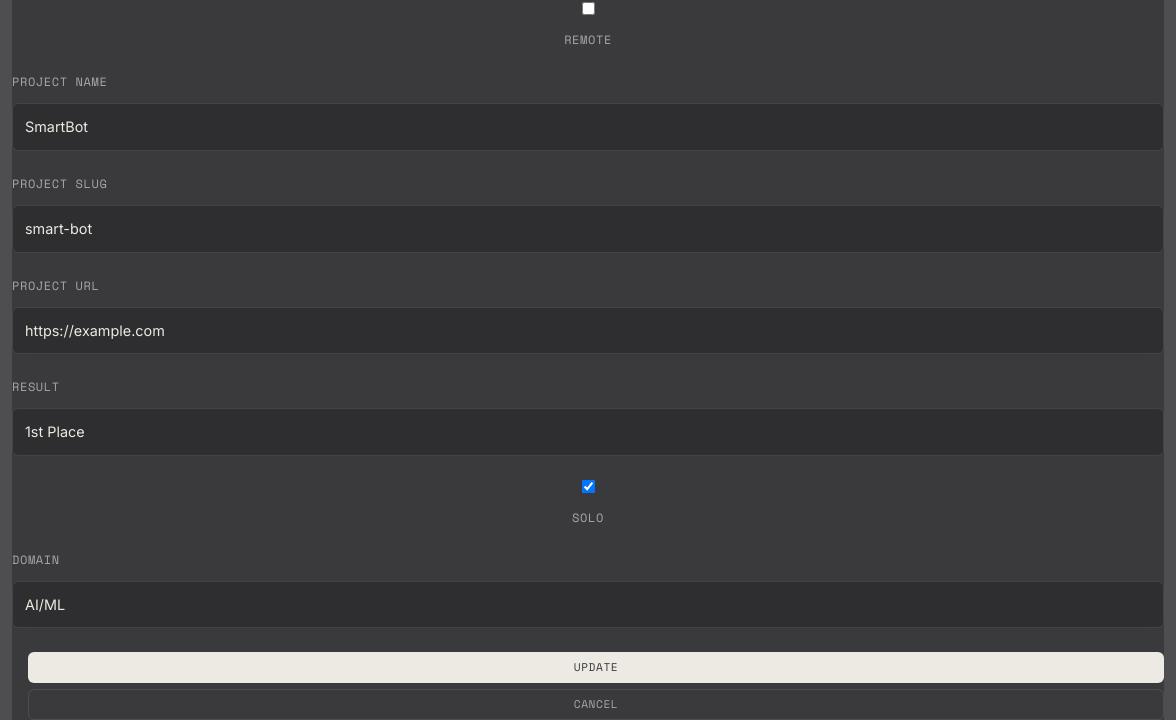
HackathonEditor › shows SAVING... while saving
(page scrolled)
Click the button "UPDATE": [596, 668] box x1=28 y1=652 x2=1164 y2=683
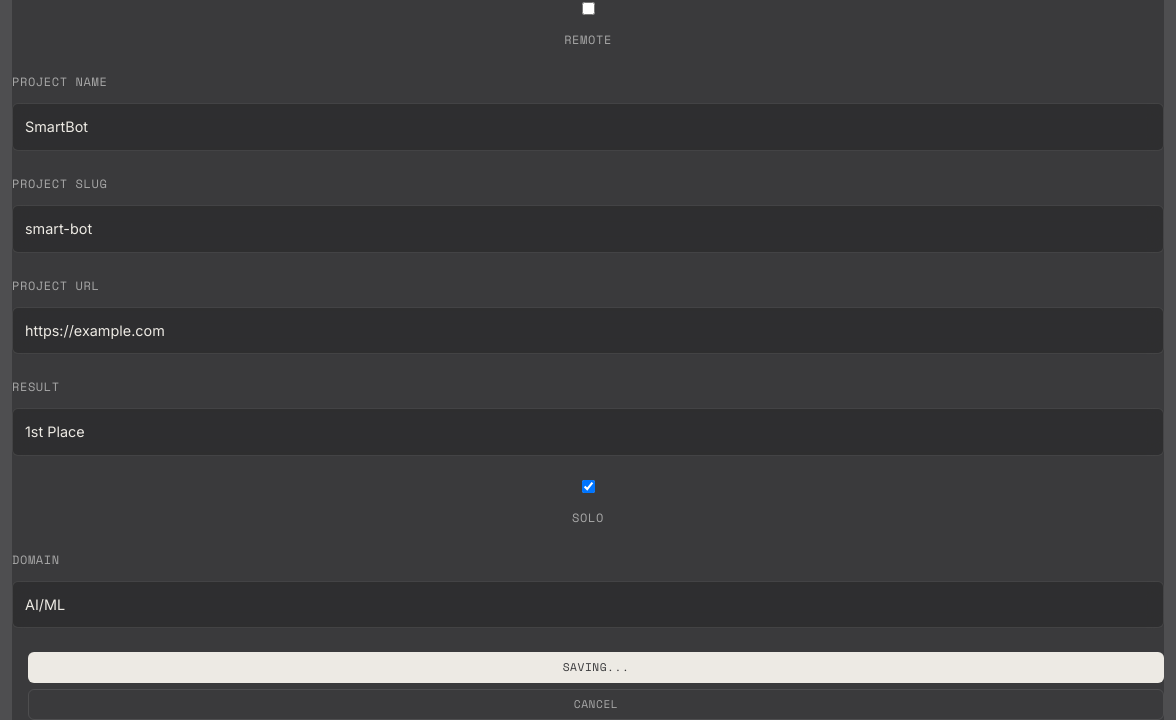
Result: the button "SAVING..." is shown at x1=28 y1=652 x2=1164 y2=683
